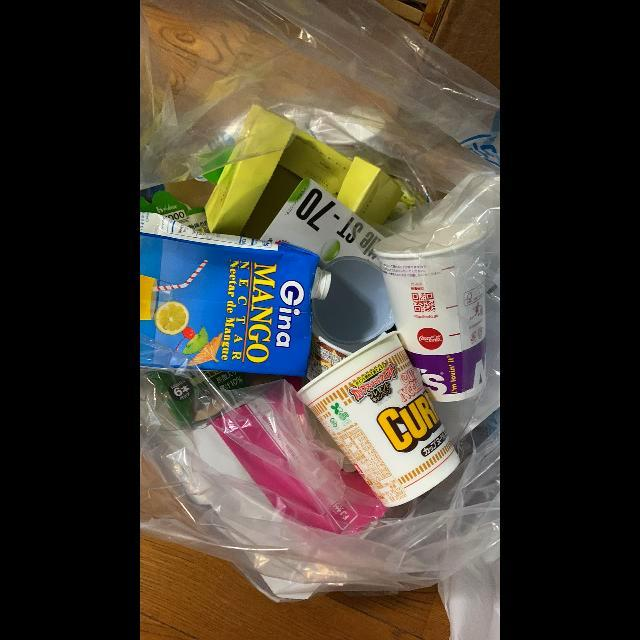paper: (374, 223, 487, 402)
